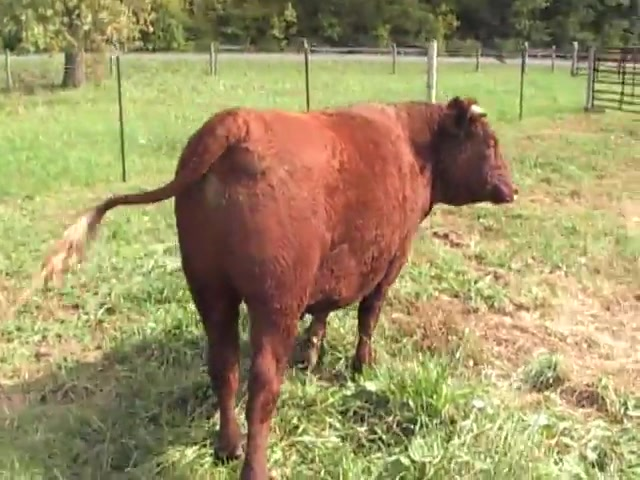cow: (39, 98, 517, 480)
